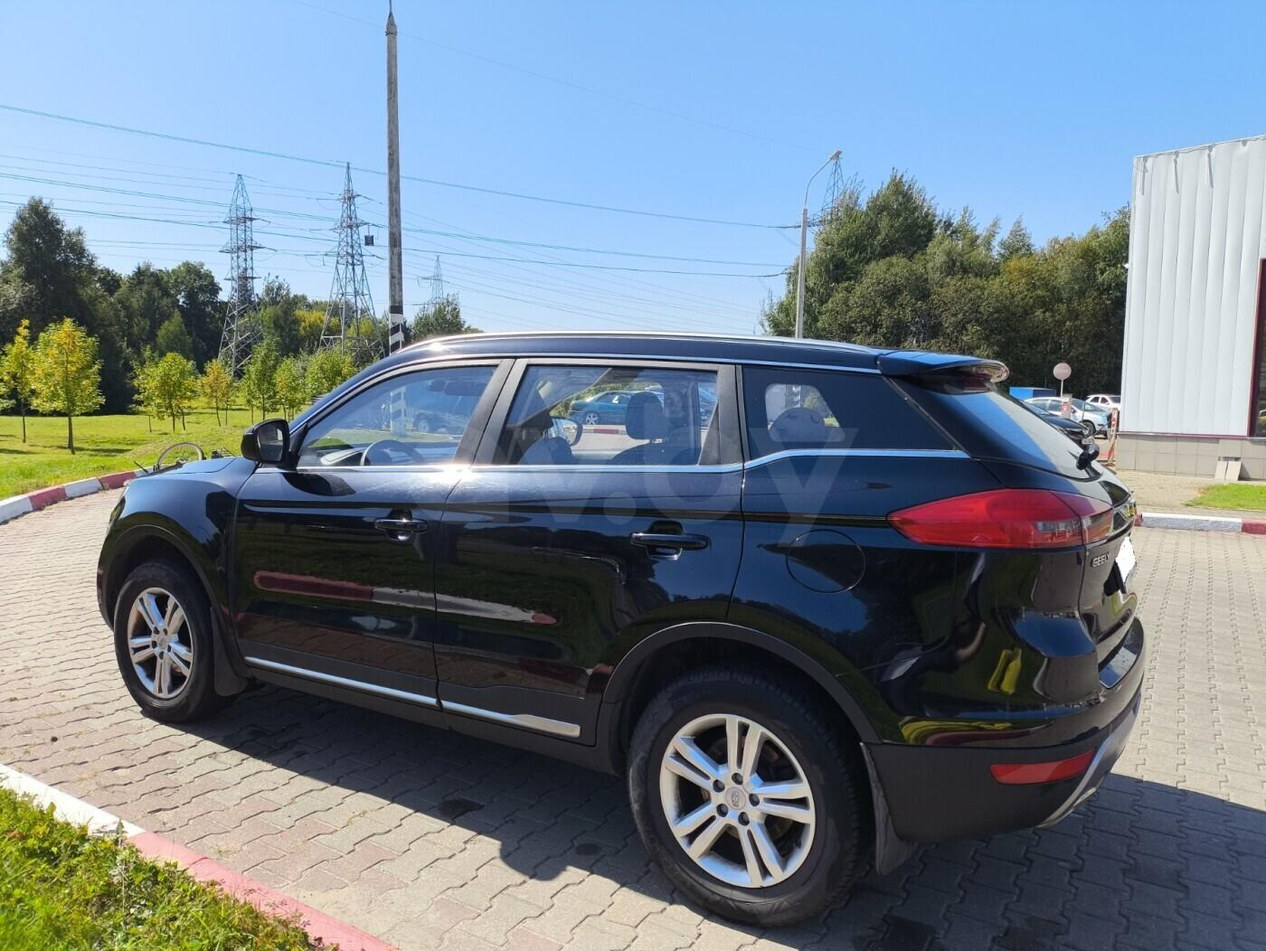Atlas_2016-2023: (93, 327, 1157, 930)
